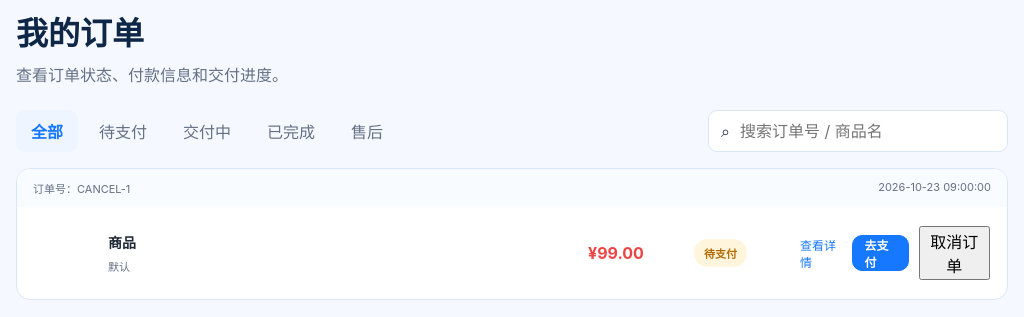
Test: 待支付订单可以取消并立即显示已取消
The image size is (1024, 317).
Click the button with aria-label "取消订单 CANCEL-1". click: (954, 253)
box: x1=919 y1=226 x2=990 y2=280
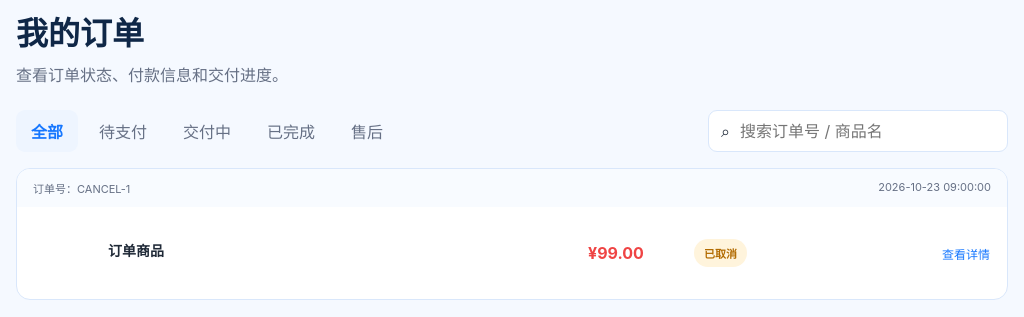
Expected: the text "已取消" is shown, x1=694 y1=239 x2=747 y2=267
